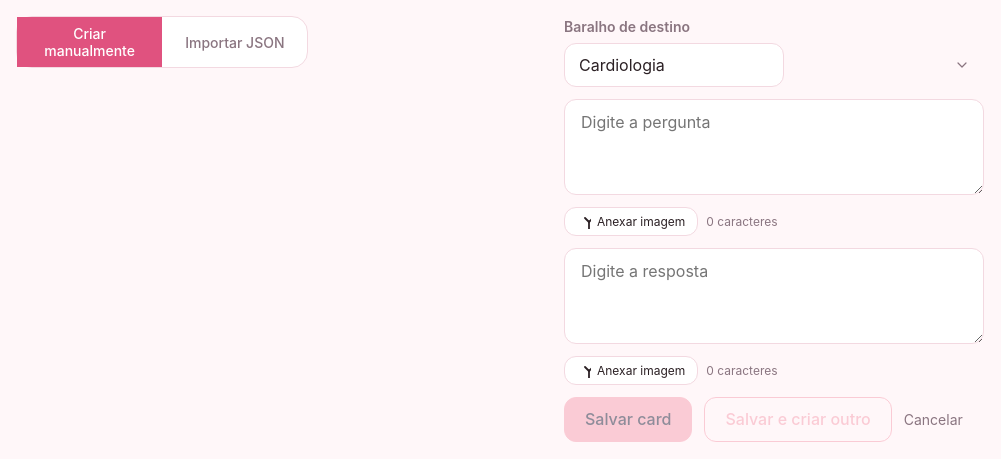
NewCard › desabilita o botão Salvar card quando pergunta ou resposta estão vazias
Expected: the button "Salvar card" is disabled, left=564, top=397, right=692, bottom=442
# Preencher apenas a pergunta
In the text box with placeholder "Digite a pergunta": (774, 147) left=564, top=99, right=984, bottom=195, type "Qual é a capital?"
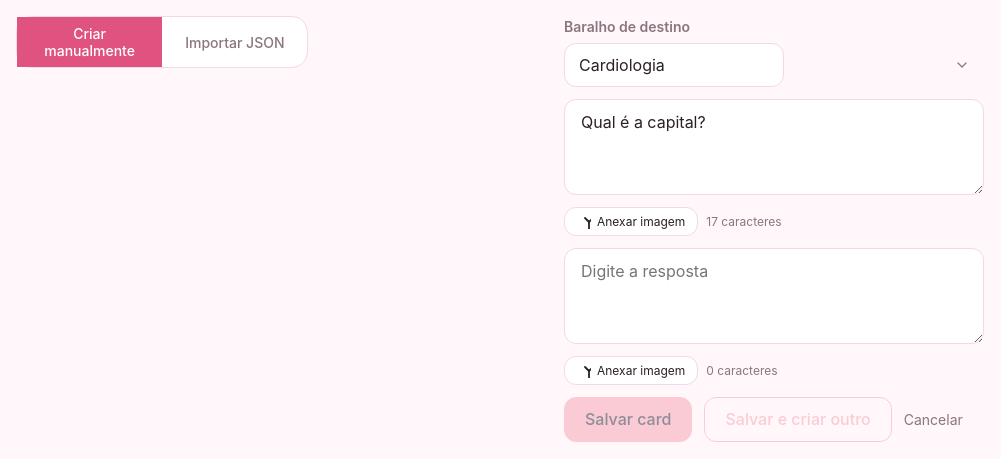
Expected: the button "Salvar card" is disabled, left=564, top=397, right=692, bottom=442
# Preencher também a resposta
In the text box with placeholder "Digite a resposta": (774, 296) left=564, top=248, right=984, bottom=344, type "Brasília"
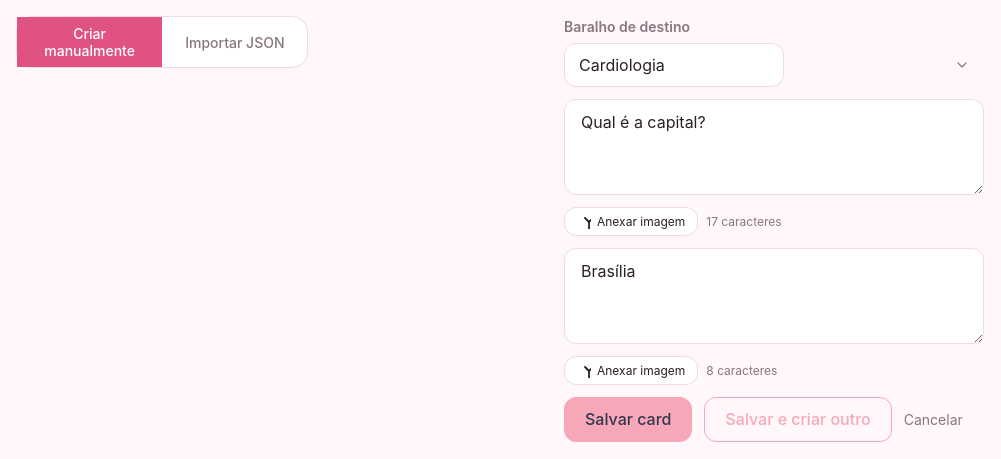
Now the button "Salvar card" is enabled, box left=564, top=397, right=692, bottom=442
